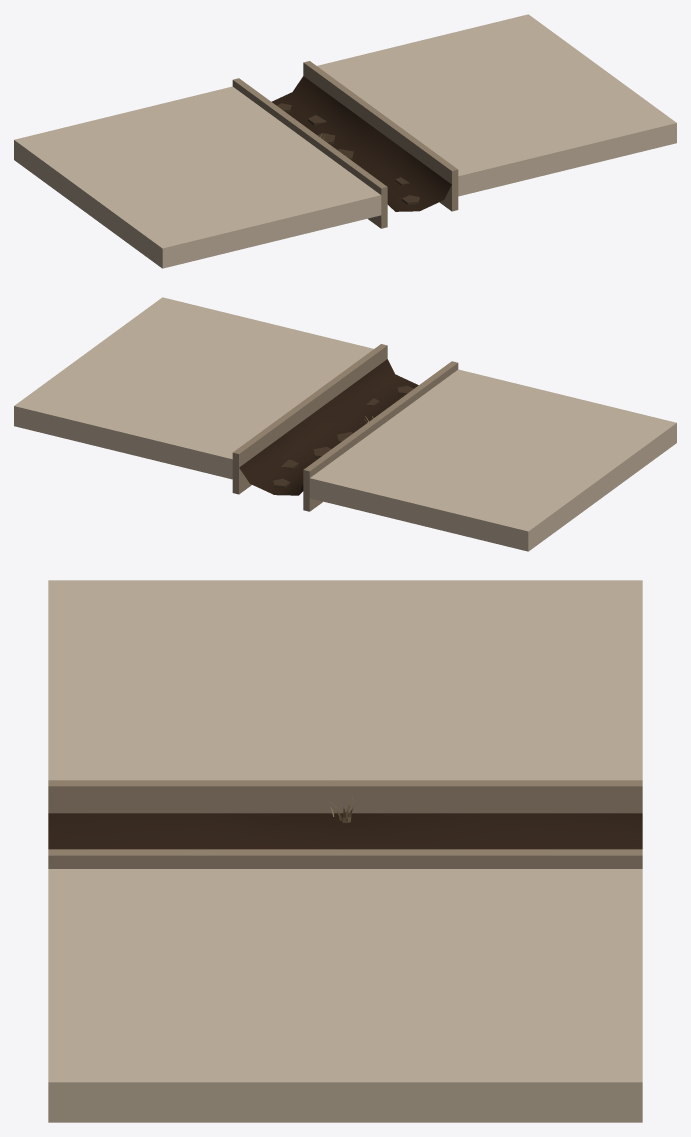
The model's file is city_mud_relic.glb.
The picture shows the model from 3 angles, top to bottom: view 1: azimuth 30°, elevation 25°; view 2: azimuth 150°, elevation 25°; view 3: azimuth 270°, elevation 25°; orthographic projection. The views are drawn at different scales.
Visible parts, largest first — view 1: CityMudRelic_PavingL, CityMudRelic_PavingR, CityMudRelic_Mud, CityMudRelic_KerbR, CityMudRelic_KerbL; view 2: CityMudRelic_PavingL, CityMudRelic_PavingR, CityMudRelic_Mud, CityMudRelic_KerbR, CityMudRelic_KerbL; view 3: CityMudRelic_PavingR, CityMudRelic_PavingL, CityMudRelic_Mud, CityMudRelic_KerbL, CityMudRelic_KerbR.
Part boxes in pixels (x1=…): CityMudRelic_PavingL: x1=14, y1=86, x2=381, y2=268; CityMudRelic_PavingR: x1=317, y1=14, x2=676, y2=196; CityMudRelic_Mud: x1=271, y1=76, x2=451, y2=211; CityMudRelic_KerbR: x1=303, y1=61, x2=458, y2=211; CityMudRelic_KerbL: x1=232, y1=78, x2=387, y2=228; CityMudRelic_PavingL: x1=309, y1=369, x2=676, y2=551; CityMudRelic_PavingR: x1=14, y1=297, x2=373, y2=479; CityMudRelic_Mud: x1=239, y1=359, x2=418, y2=495; CityMudRelic_KerbR: x1=232, y1=344, x2=387, y2=494; CityMudRelic_KerbL: x1=303, y1=361, x2=458, y2=511; CityMudRelic_PavingR: x1=48, y1=869, x2=642, y2=1122; CityMudRelic_PavingL: x1=48, y1=580, x2=642, y2=780; CityMudRelic_Mud: x1=48, y1=813, x2=642, y2=849; CityMudRelic_KerbL: x1=48, y1=780, x2=642, y2=813; CityMudRelic_KerbR: x1=48, y1=849, x2=642, y2=868.
Size of the model in its own units: 8 by 0.6 by 4.
